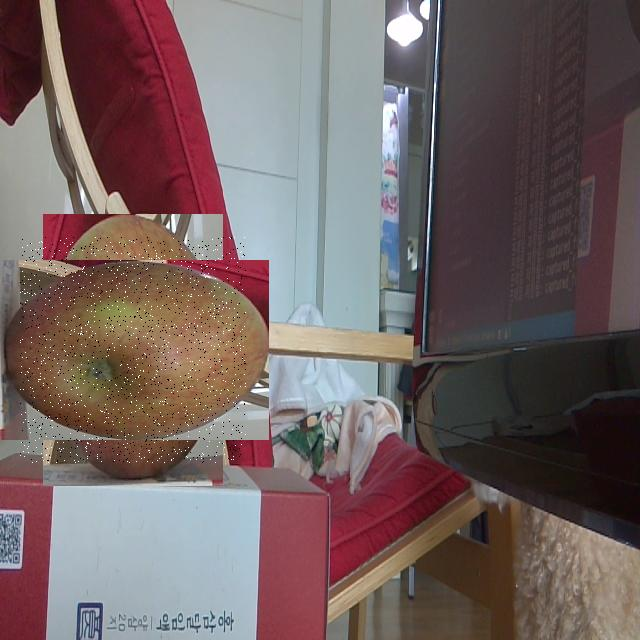apple: (20, 237, 246, 463)
